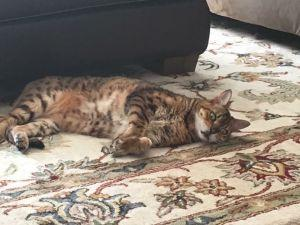bengal: (192, 87, 253, 147)
